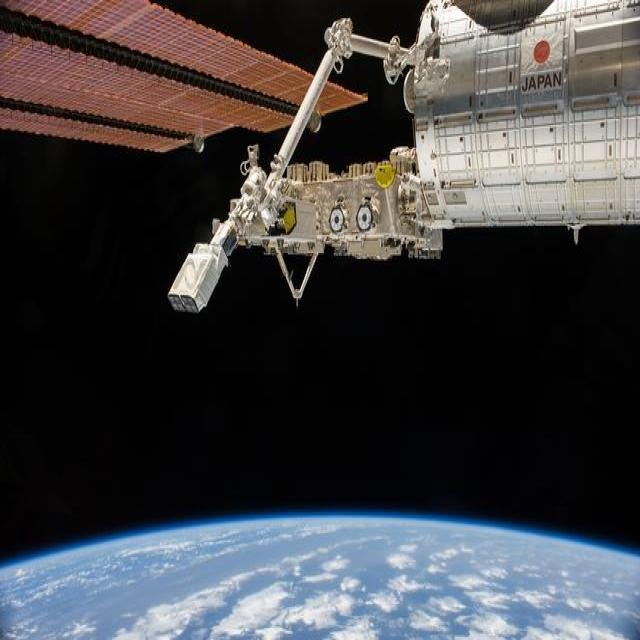medium_debris: (7, 0, 640, 322)
